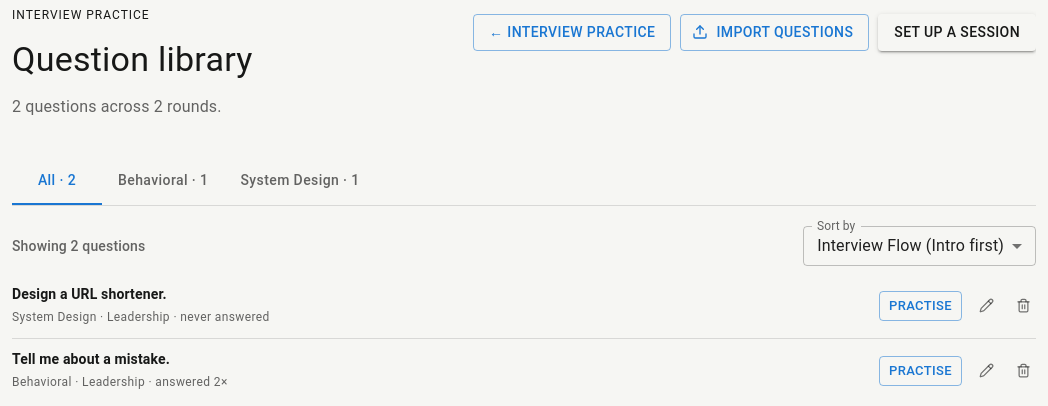
Test: InterviewLibraryPage › lists every question by round, with how often each has been answered
This screenshot has width=1048, height=406.
Expected: the text "Tell me about a mistake." is shown, [12,351,170,367]
Expected: the text "Behavioral · Leadership · answered 2×" is shown, [12,375,228,389]
What coordinates should you click on to do the following:
click the tab "System Design · 1"
I would click on:
 (300, 181)
Its box is [224,157,376,205].
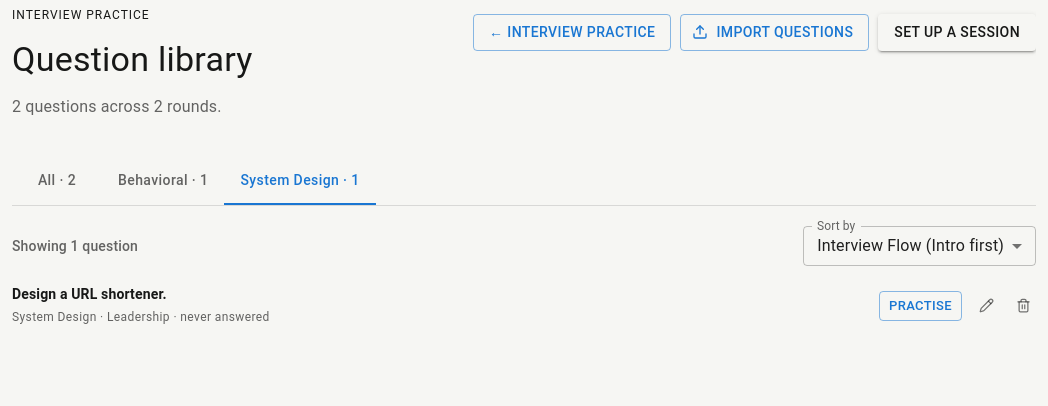
Expected: the text "Design a URL shortener." is shown, [12,286,167,302]
Result: the text "Tell me about a mistake." is gone
